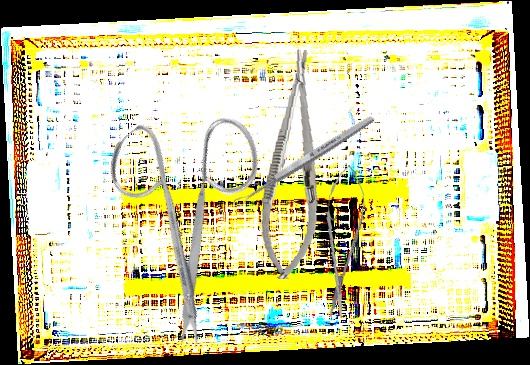Iris Scissors: (54, 72, 333, 354)
Micro Scissor: (315, 163, 370, 319)
Needle Holder: (255, 47, 333, 282)
Surgical Spoon: (230, 113, 377, 210)
